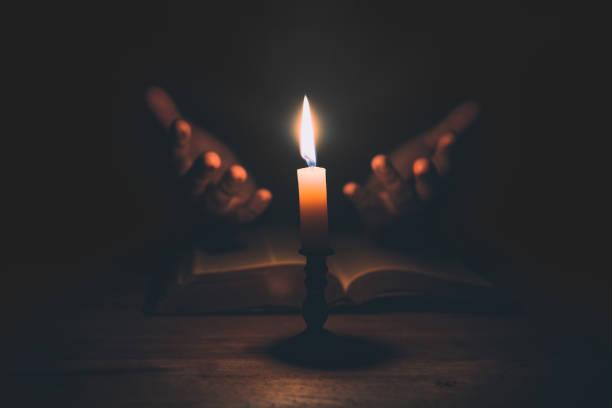Fire: (297, 90, 322, 165)
